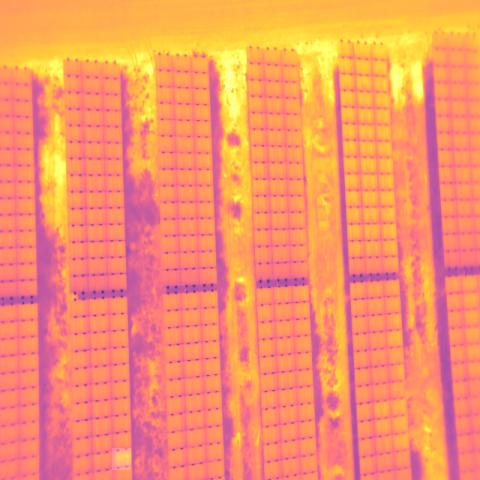fault: (112, 448, 131, 470)
